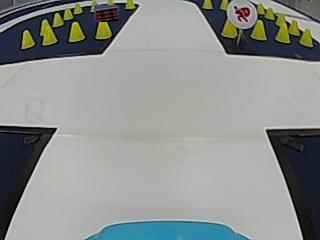thief: (226, 0, 258, 28)
